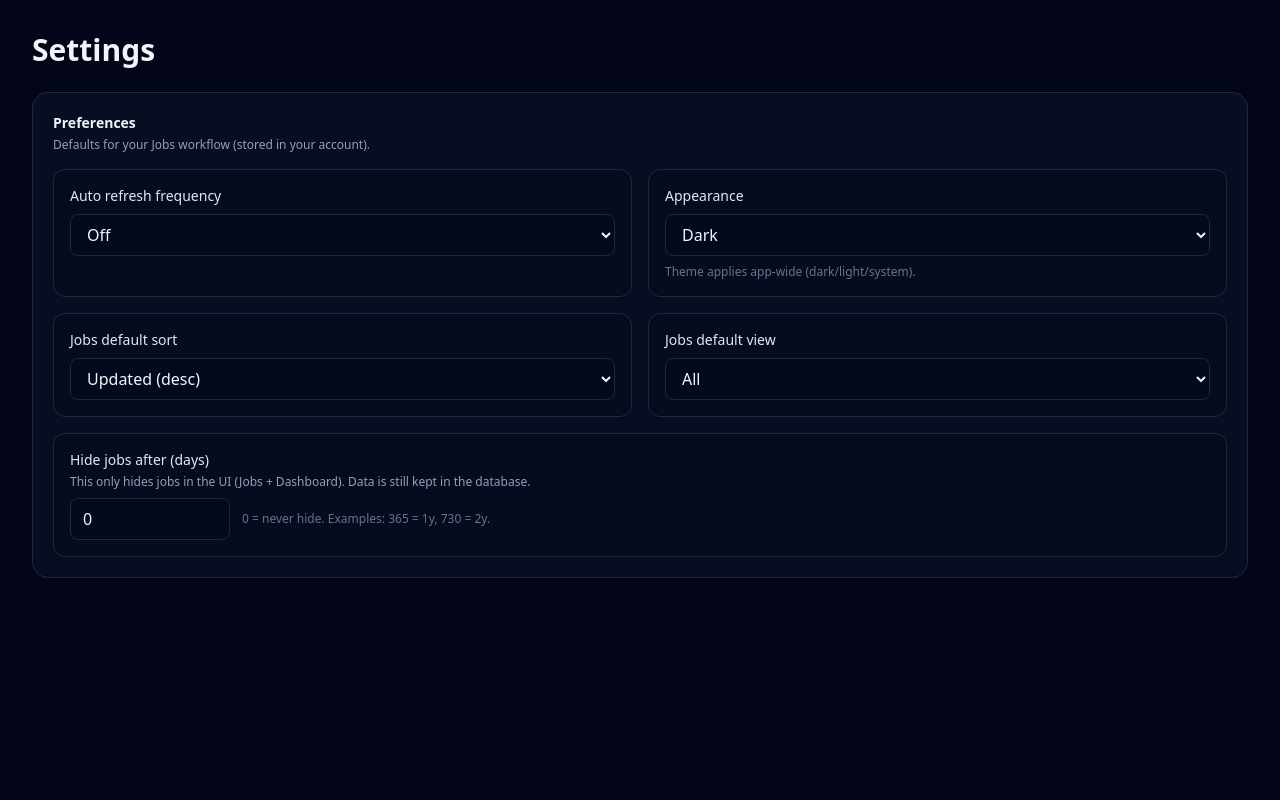
it: SettingsPage › shows toast on auto-refresh update failure
Check: the text "Preferences" is shown, box [53, 113, 136, 132]
Select "10s" in the dropdown below "Auto refresh frequency". click: (342, 235)
box: [70, 214, 615, 256]
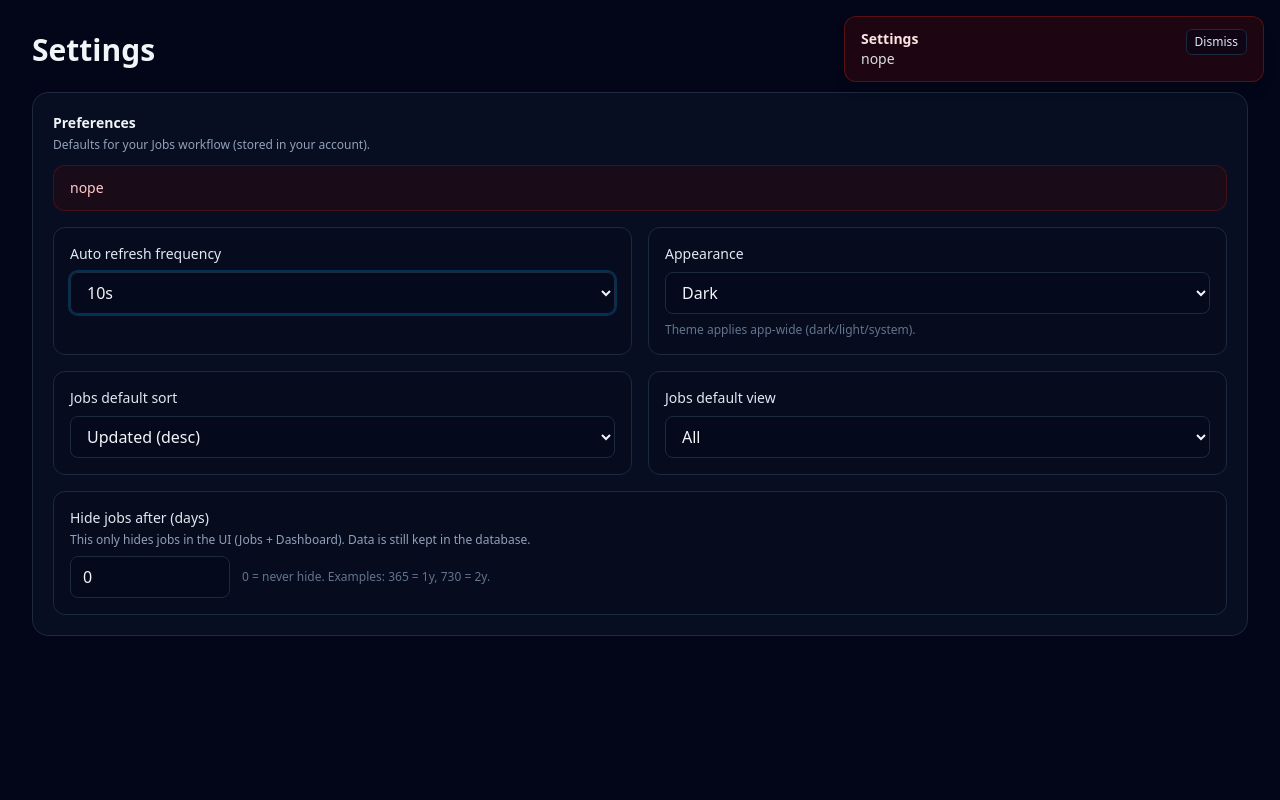
Check: the text "nope" below "Preferences" is shown, box [70, 178, 104, 197]
